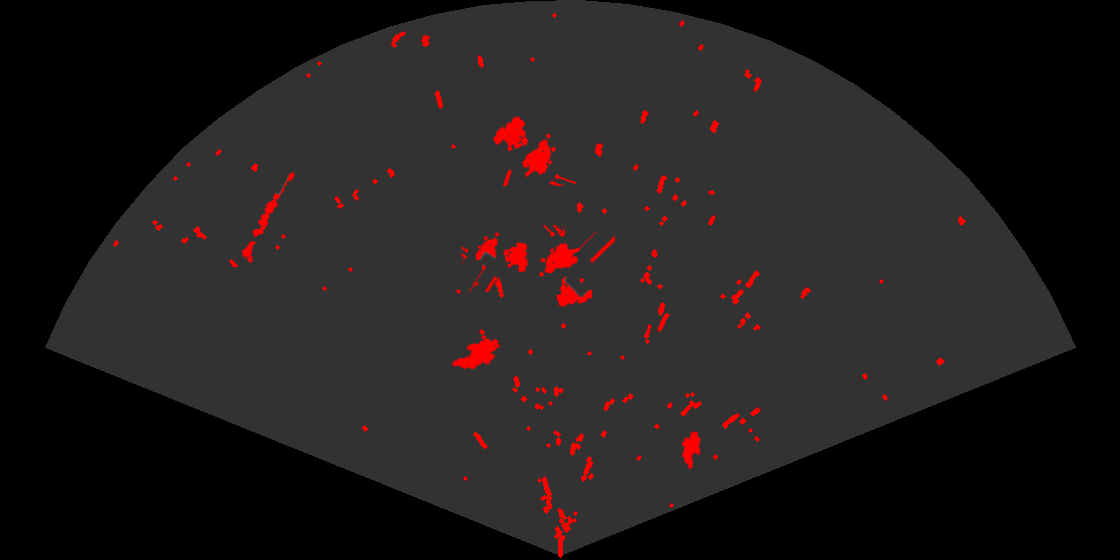AUV: (450, 336, 502, 371), (680, 430, 703, 471)
cage: (538, 225, 615, 308), (491, 115, 576, 186), (461, 231, 530, 292)
chain: (240, 171, 296, 260)
